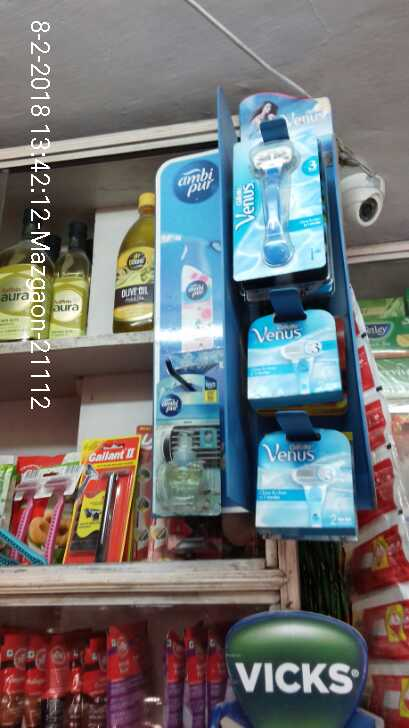beauty: (252, 429, 360, 539), (234, 140, 319, 276), (248, 311, 344, 402)
home: (161, 393, 225, 516)
